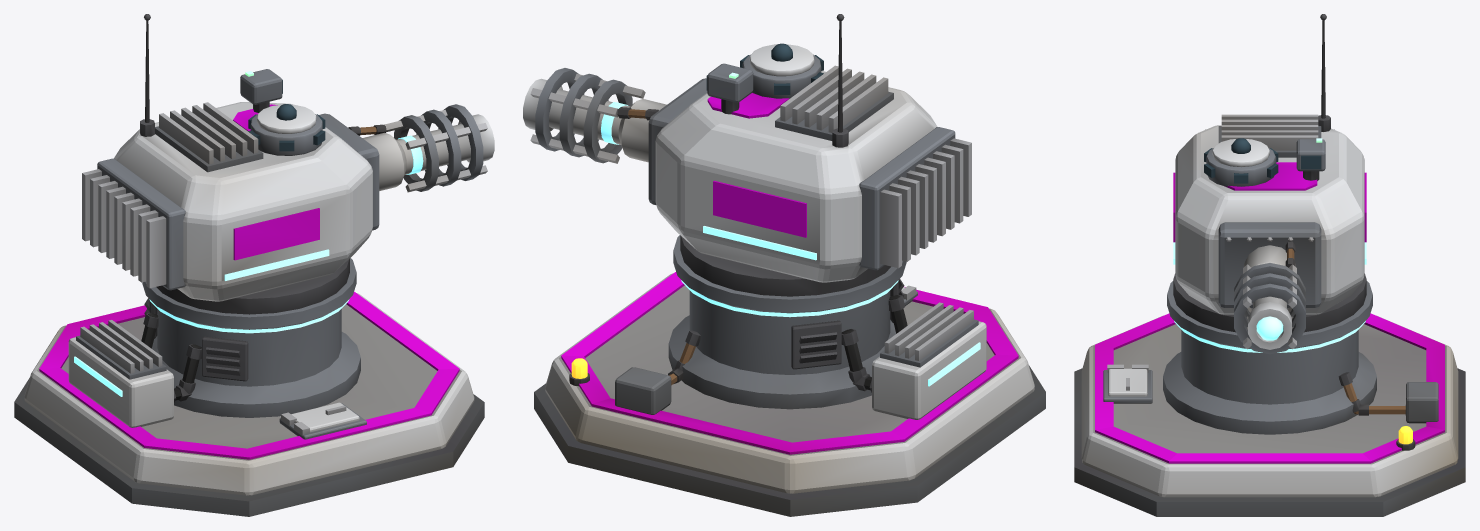
Rendered from laser_turret.glb.
3 renders of one model, left to right at view 1: azimuth 30°, elevation 25°; view 2: azimuth 150°, elevation 25°; view 3: azimuth 270°, elevation 25°, orthographic. The views are drawn at different scales.
Visible parts, largest first — view 1: Body, Turret, Barrel; view 2: Body, Turret, Barrel; view 3: Body, Turret, Barrel.
Part boxes in pixels (x1=…): Body: x1=14, y1=258, x2=484, y2=516; Turret: x1=82, y1=14, x2=379, y2=314; Barrel: x1=348, y1=104, x2=494, y2=192; Body: x1=534, y1=235, x2=1045, y2=516; Turret: x1=648, y1=14, x2=971, y2=296; Barrel: x1=523, y1=68, x2=666, y2=163; Body: x1=1074, y1=281, x2=1465, y2=516; Turret: x1=1173, y1=14, x2=1366, y2=332; Barrel: x1=1234, y1=242, x2=1305, y2=354.
Size of the model in its own units: 2.25 by 2.07 by 1.9.
Materials: 1 (1 with a texture image).
